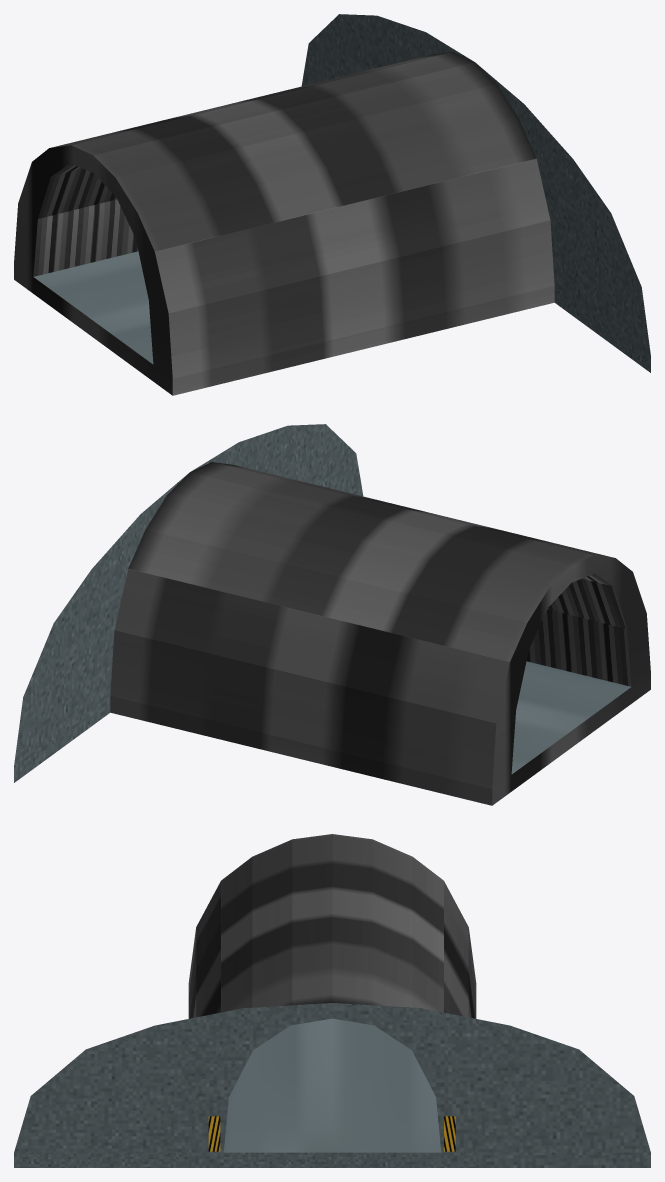
Rendered from Tunnel_entrance.glb.
3 renders of one model, top to bottom at view 1: azimuth 30°, elevation 25°; view 2: azimuth 150°, elevation 25°; view 3: azimuth 270°, elevation 25°, orthographic. The views are drawn at different scales.
Parts seen in each view (by area): view 1: Cylinder; view 2: Cylinder; view 3: Cylinder.
Part boxes in pixels (x1,y1,x2,y2): Cylinder: (14, 14, 650, 395); Cylinder: (14, 424, 650, 805); Cylinder: (14, 834, 650, 1167).
Size of the model in its own units: 13.85 by 6.31 by 22.07.
1 material, 1 textured.
